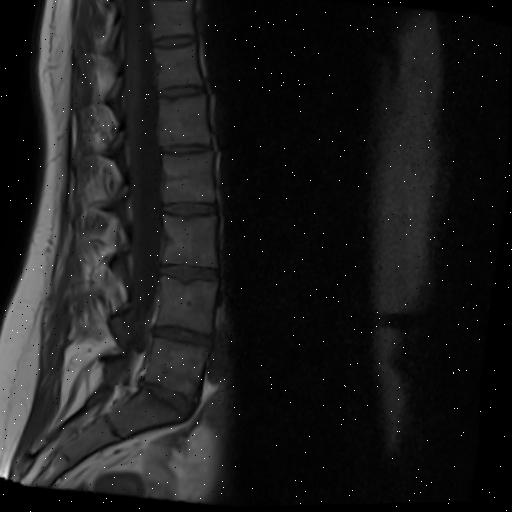L1: (158, 96, 210, 147)
L2: (163, 153, 215, 205)
L3: (163, 216, 217, 269)
L4: (158, 278, 219, 331)
L5: (147, 338, 210, 398)
S1: (112, 389, 184, 439)
